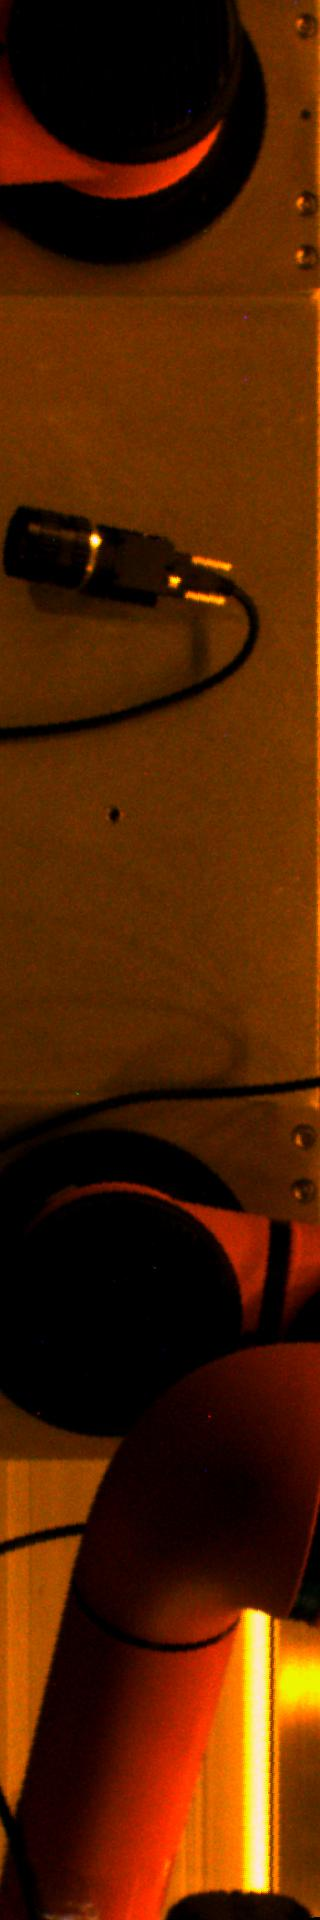keyPoint_2: (98, 801, 128, 831)
